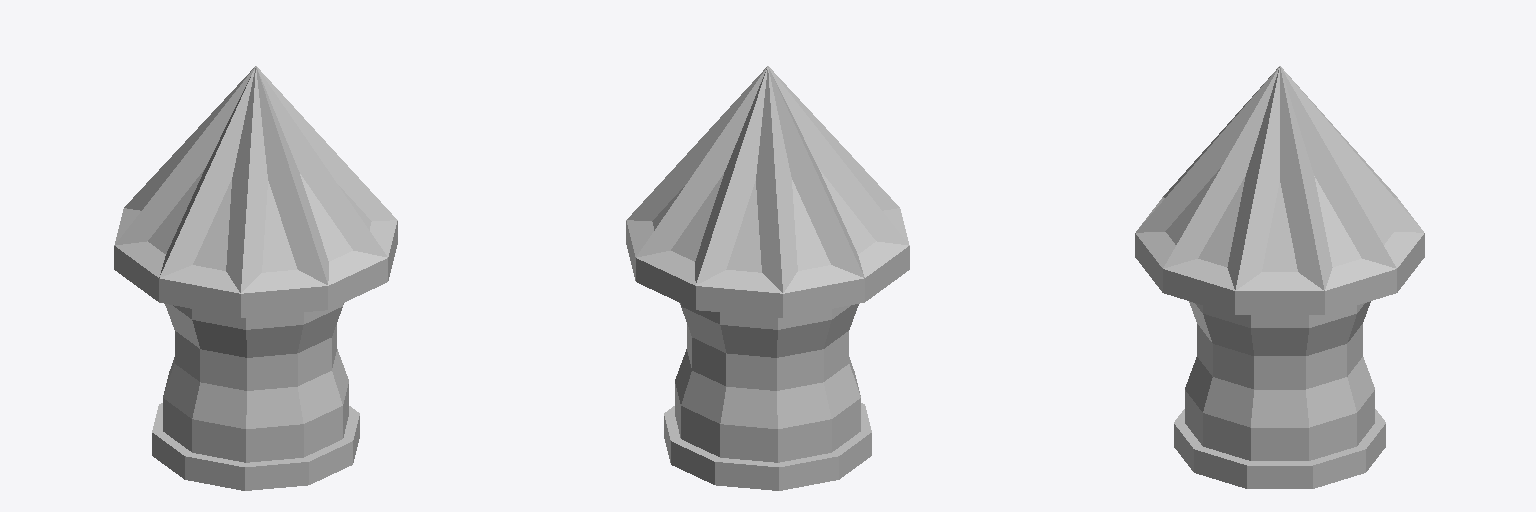
The model's file is ArrowSmooth.obj.
3 views of the same model, side by side, from view 1: azimuth 30°, elevation 25°; view 2: azimuth 150°, elevation 25°; view 3: azimuth 270°, elevation 25° (orthographic).
Parts seen in each view (by area): view 1: Cylinder; view 2: Cylinder; view 3: Cylinder.
Boxes of the visible parts, x1,y1,x2,y2 form: Cylinder: [114, 66, 397, 490]; Cylinder: [626, 66, 909, 490]; Cylinder: [1135, 66, 1424, 488].
Bounding box in the file's own units: 2.89 × 4.41 × 3.04.